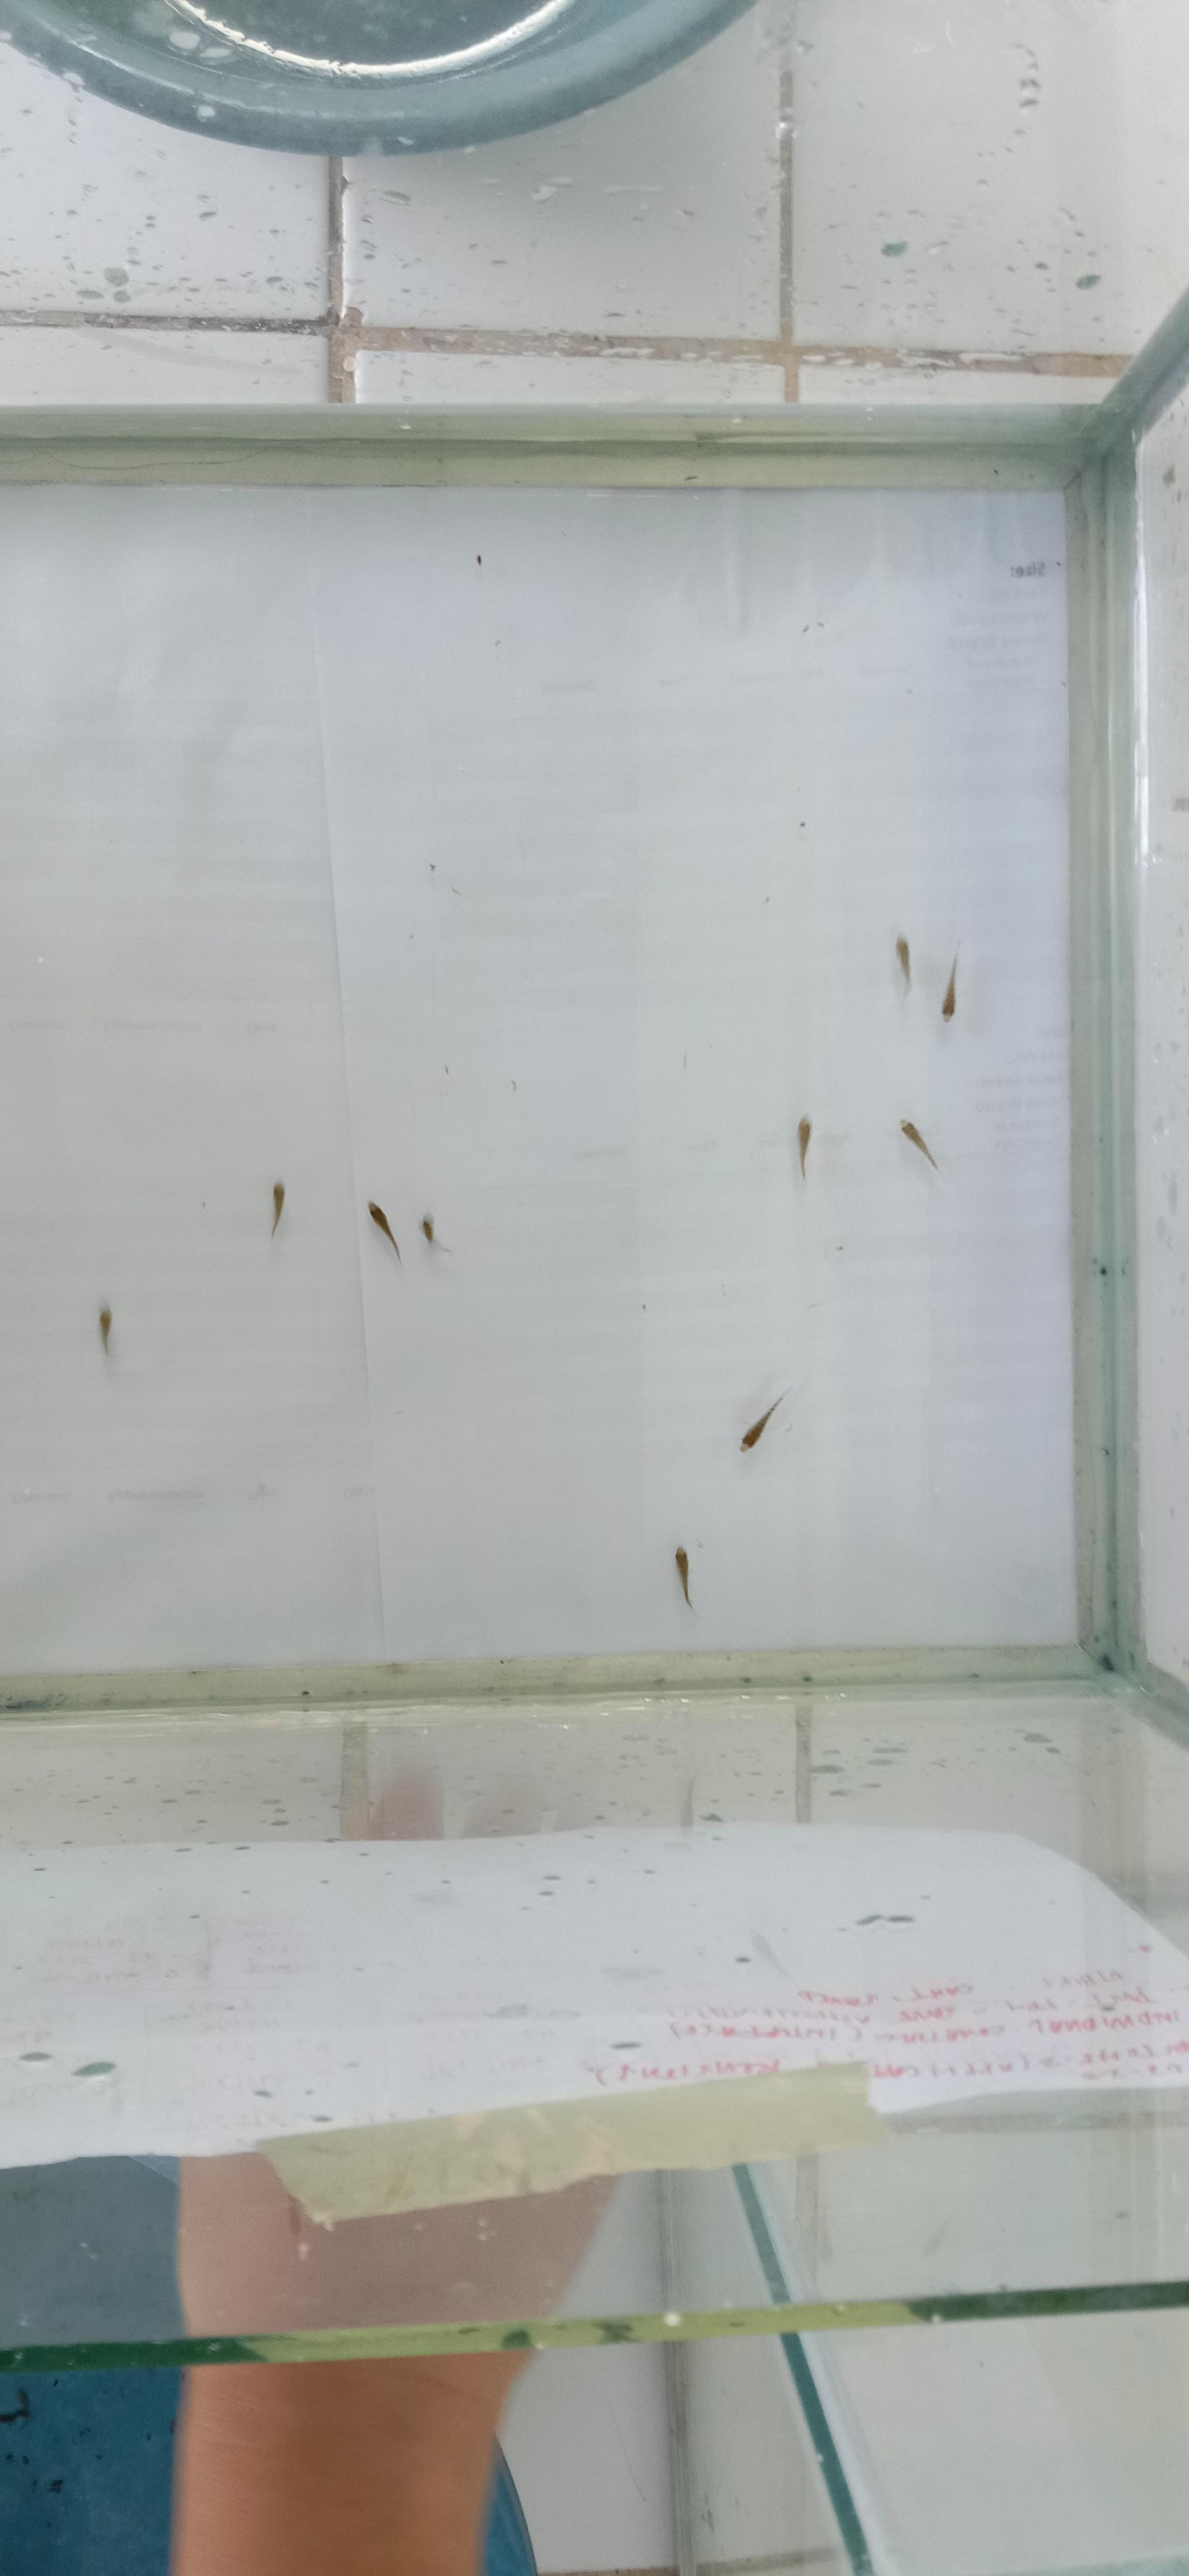fingerling: (737, 1391, 785, 1452), (366, 1199, 401, 1262), (898, 1117, 938, 1171), (672, 1546, 695, 1610), (939, 954, 957, 1019), (893, 935, 911, 996), (796, 1117, 813, 1180), (269, 1180, 286, 1235), (99, 1304, 113, 1352), (419, 1212, 437, 1247)
